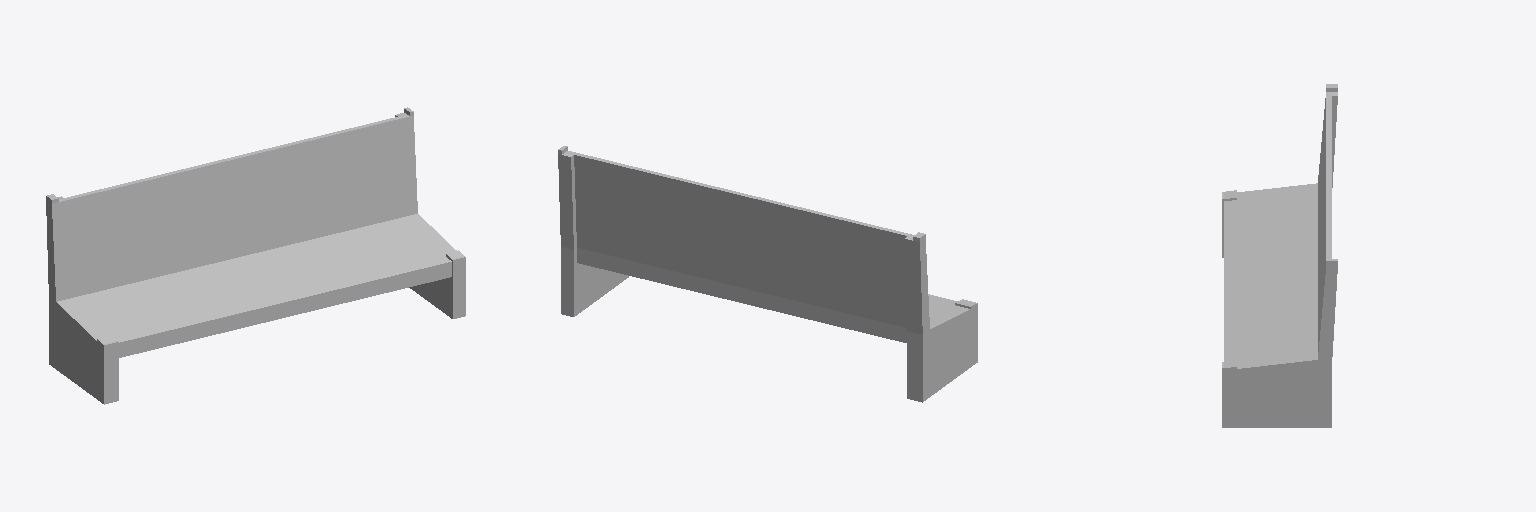
Rendered from bench.obj.
3 views of the same model, side by side, from view 1: azimuth 30°, elevation 25°; view 2: azimuth 150°, elevation 25°; view 3: azimuth 270°, elevation 25° (orthographic).
Visible parts, largest first — view 1: Bench; view 2: Bench; view 3: Bench.
Boxes of the visible parts, box(x1,y1,x2,y2) form: Bench: box(46, 107, 465, 404); Bench: box(558, 146, 977, 402); Bench: box(1222, 84, 1337, 427).
Size of the model in its own units: 17.77 by 7.81 by 4.93.